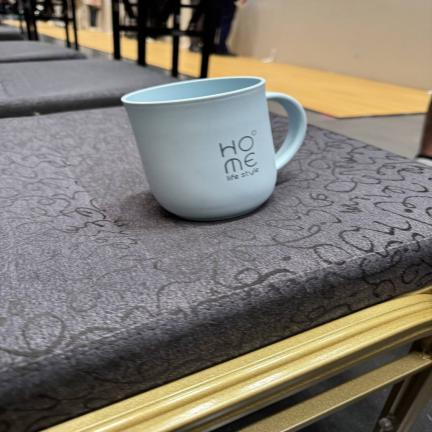cup: (121, 77, 307, 220)
